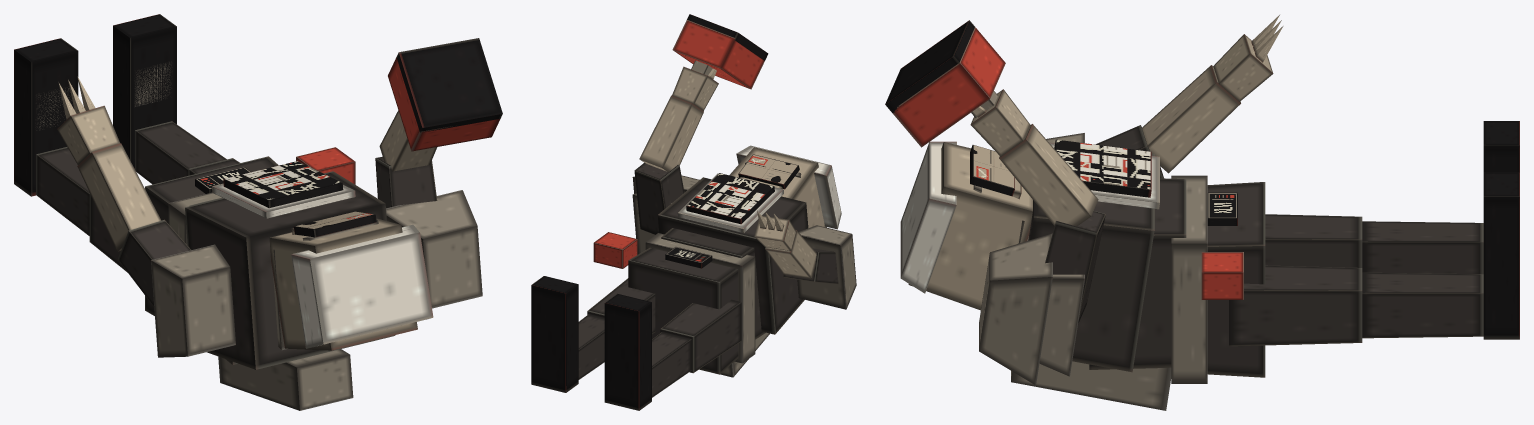
Rendered from exceptor_warning.obj.
3 renders of one model, left to right at view 1: azimuth 30°, elevation 25°; view 2: azimuth 150°, elevation 25°; view 3: azimuth 270°, elevation 25°, orthographic. The views are drawn at different scales.
Parts seen in each view (by area): view 1: exceptor_warning; view 2: exceptor_warning; view 3: exceptor_warning.
Boxes of the visible parts, x1,y1,x2,y2 form: exceptor_warning: [14, 14, 502, 410]; exceptor_warning: [531, 14, 856, 410]; exceptor_warning: [885, 15, 1519, 410].
Bounding box in the file's own units: 0.6056 × 0.7205 × 1.03.
Materials: 1 (1 with a texture image).
